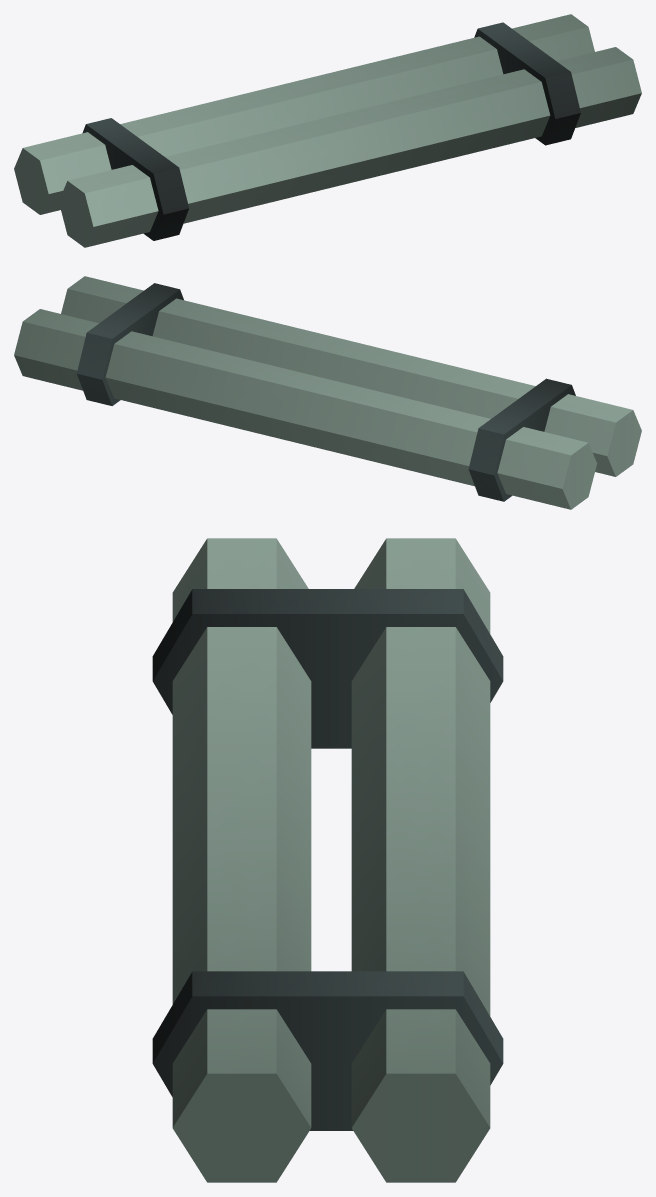
3 views of the same model, one above another, from view 1: azimuth 30°, elevation 25°; view 2: azimuth 150°, elevation 25°; view 3: azimuth 270°, elevation 25° (orthographic). The views are drawn at different scales.
Visible parts, largest first — view 1: object.012; view 2: object.012; view 3: object.012.
Part boxes in pixels (left/top/right/bottom): object.012: left=14, top=14, right=641, bottom=247; object.012: left=14, top=276, right=641, bottom=509; object.012: left=152, top=538, right=503, bottom=1182.
Size of the model in its own units: 181 by 21.26 by 50.18.
